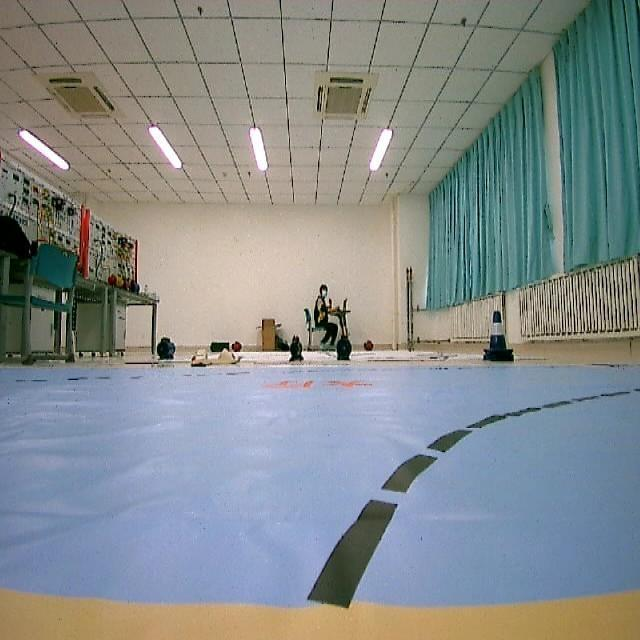obstacle: (472, 310, 522, 366)
